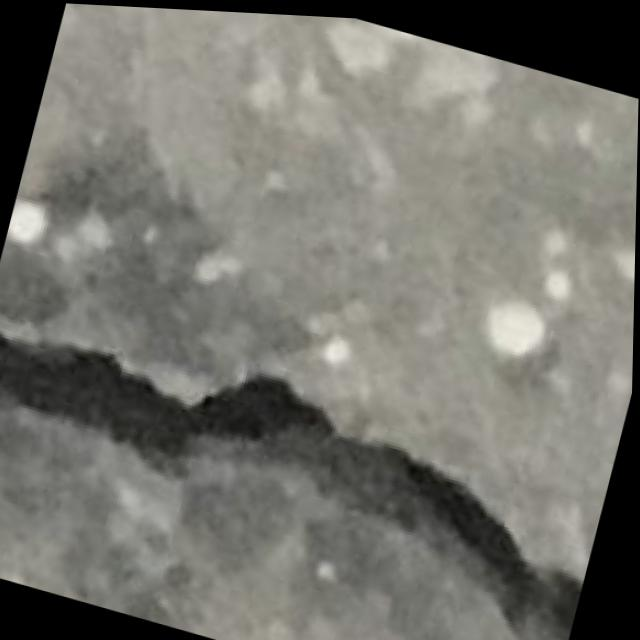Crack: (0, 296, 611, 640)
